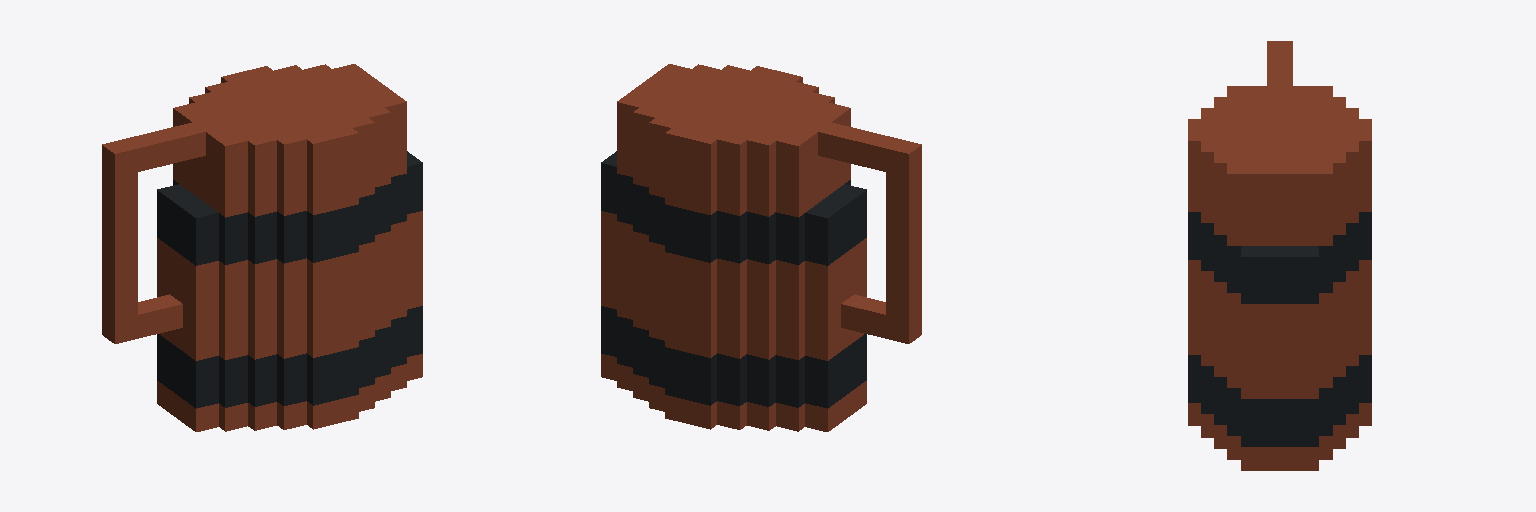
The model's file is beermug.obj.
3 views of the same model, side by side, from view 1: azimuth 30°, elevation 25°; view 2: azimuth 150°, elevation 25°; view 3: azimuth 270°, elevation 25° (orthographic).
Size of the model in its own units: 13 by 12 by 7.